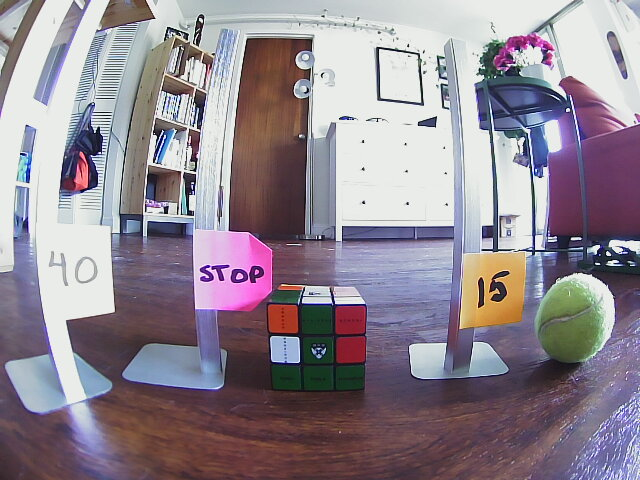15: (465, 254, 522, 325)
40: (43, 227, 107, 321)
ball: (540, 273, 614, 363)
cube: (272, 290, 367, 392)
stop: (196, 233, 268, 306)
